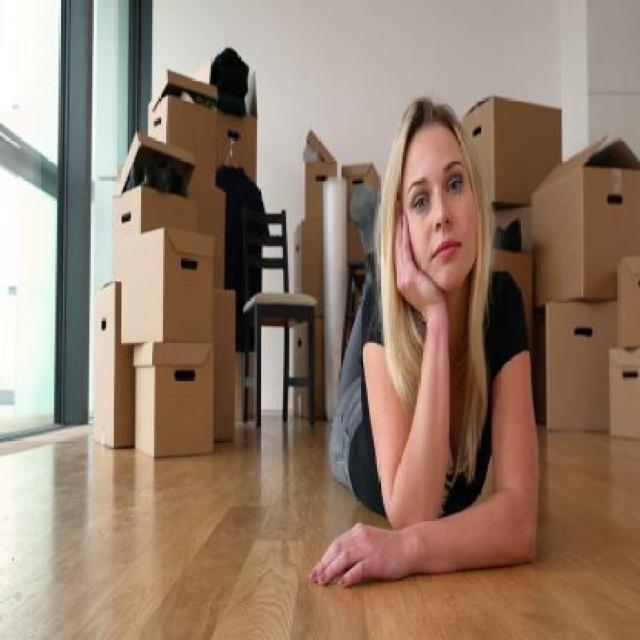box: (92, 277, 236, 450), (528, 137, 640, 305), (112, 137, 202, 280), (462, 94, 567, 204), (122, 227, 212, 348), (544, 293, 619, 432), (135, 338, 213, 459), (192, 74, 263, 192), (152, 74, 214, 186), (292, 219, 358, 323), (603, 349, 640, 441), (303, 134, 337, 224), (610, 247, 640, 344), (342, 160, 376, 226)
